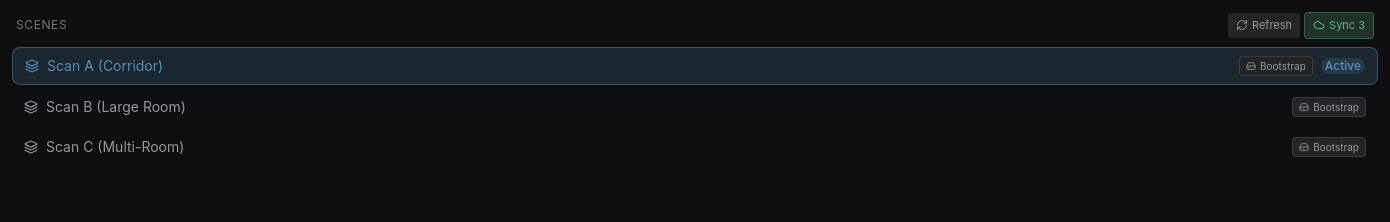
official scene maintainer workflow › refresh surfaces a discovered scene row with Discovered badge and sync button
The image size is (1390, 222).
Click the button with test id "refresh-scenes-button" at (1264, 25), box top-left (1228, 13), bottom-right (1300, 38)
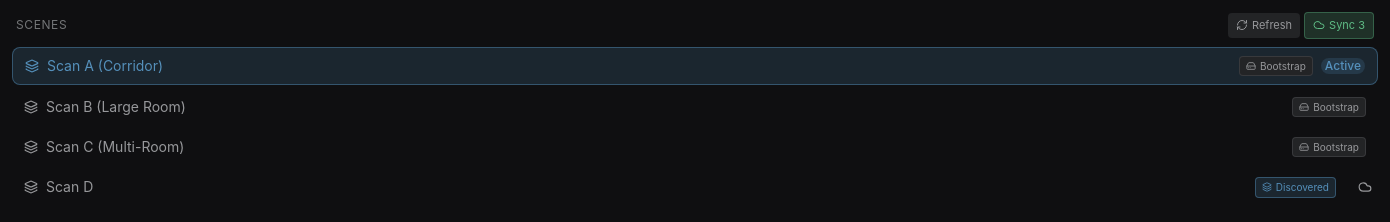
Expected: the button with test id "scene-item-scan-d" is shown, top-left (12, 169), bottom-right (1348, 206)
Expected: the element with test id "scene-sync-state-scan-d" reads "Discovered", top-left (1276, 181), bottom-right (1329, 193)
Expected: the button with test id "sync-scene-button-scan-d" is shown, top-left (1352, 174), bottom-right (1378, 200)
